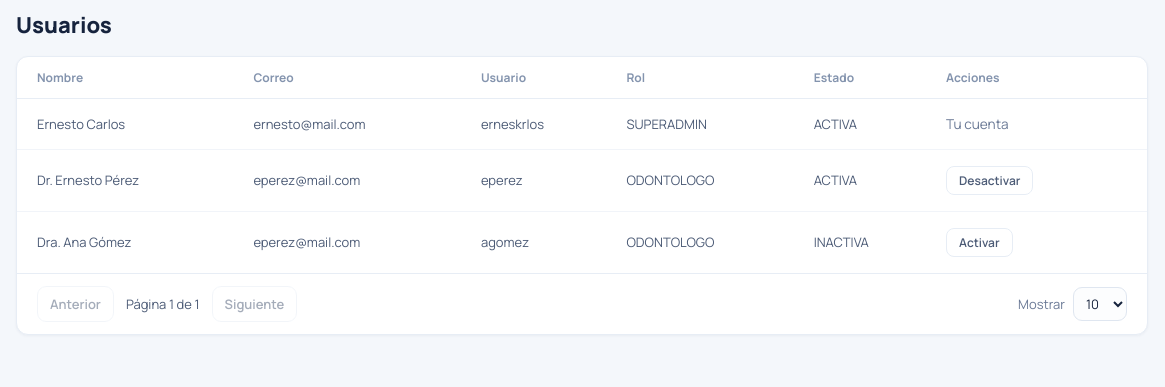
Test: UsuariosListado › cu17 desactiva una cuenta activa
Expected: the text "Dr. Ernesto Pérez" is shown, left=17, top=149, right=241, bottom=211
Click the button "Desactivar" at (990, 180), box left=946, top=166, right=1033, bottom=194
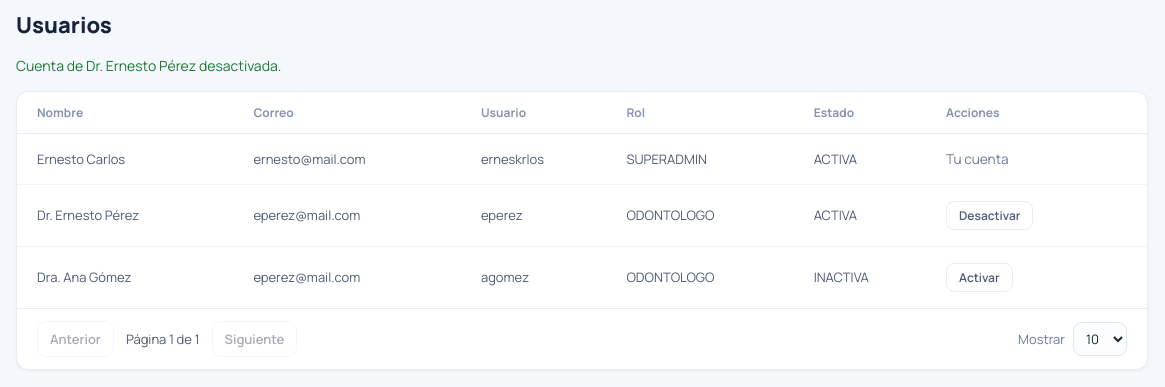
Now the message shows "desactivada", box left=16, top=56, right=281, bottom=74
